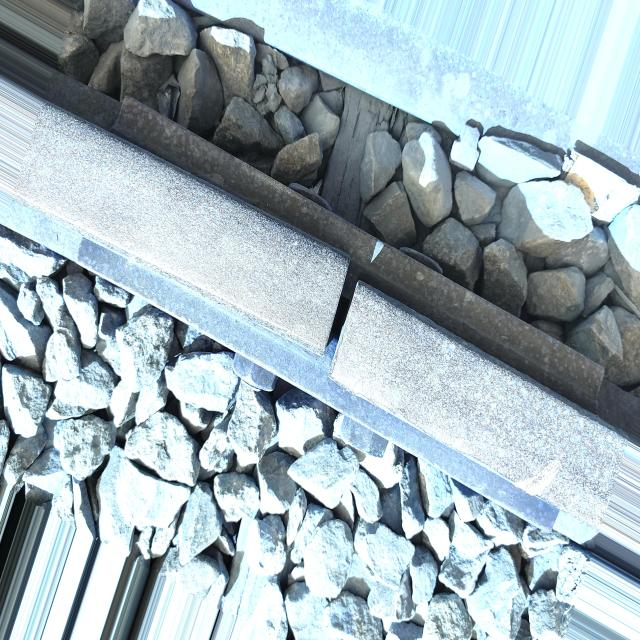crack: (306, 229, 374, 407)
